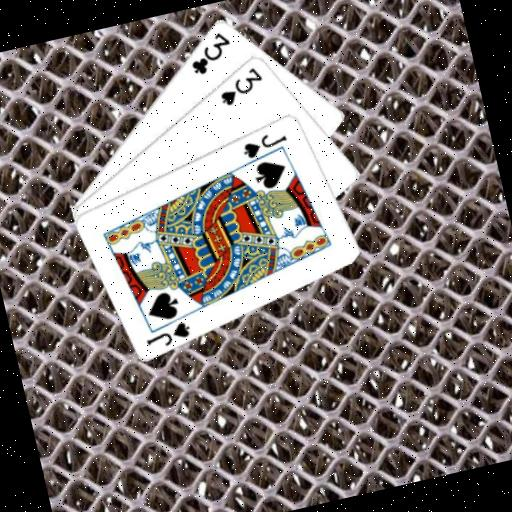3C: (182, 27, 238, 79)
3S: (212, 62, 268, 109)
JS: (238, 126, 292, 162), (141, 317, 195, 352)
